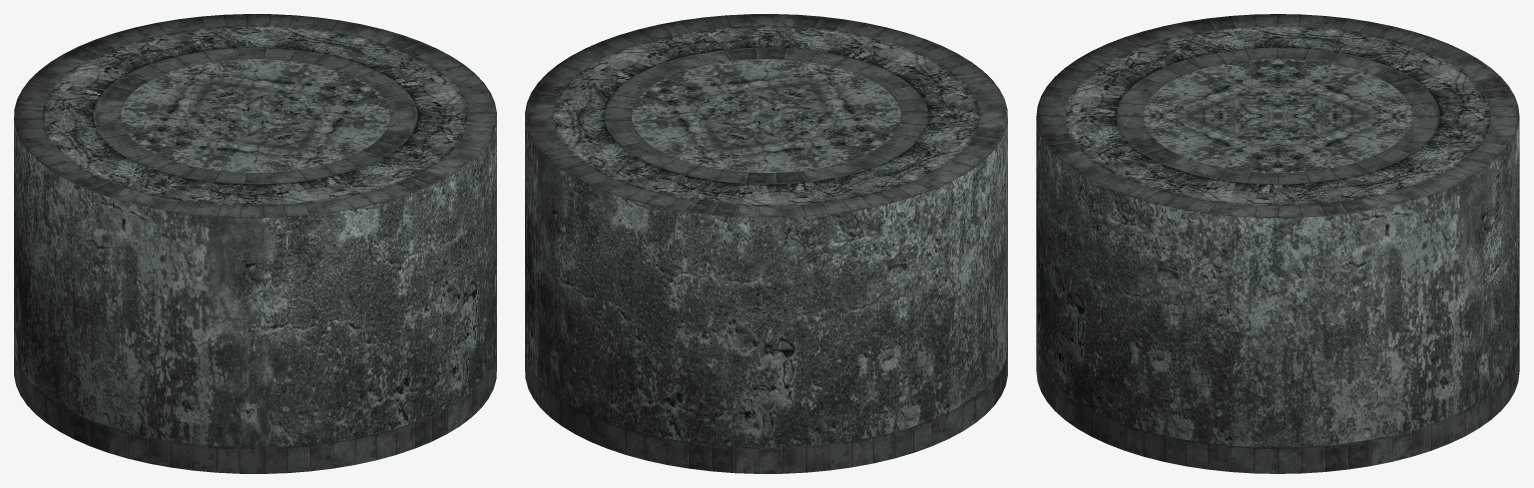
File: mg_9_wall_2.fbx
3 renders of one model, left to right at view 1: azimuth 30°, elevation 25°; view 2: azimuth 150°, elevation 25°; view 3: azimuth 270°, elevation 25°, orthographic.
Visible parts, largest first — view 1: mg_9_wall_2; view 2: mg_9_wall_2; view 3: mg_9_wall_2.
Boxes of the visible parts, x1,y1,x2,y2 form: mg_9_wall_2: (14, 14, 496, 473); mg_9_wall_2: (525, 14, 1007, 473); mg_9_wall_2: (1036, 14, 1519, 473).
Size of the model in its own units: 792 by 463 by 792.
